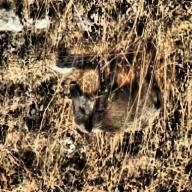boar: (58, 56, 173, 145)
